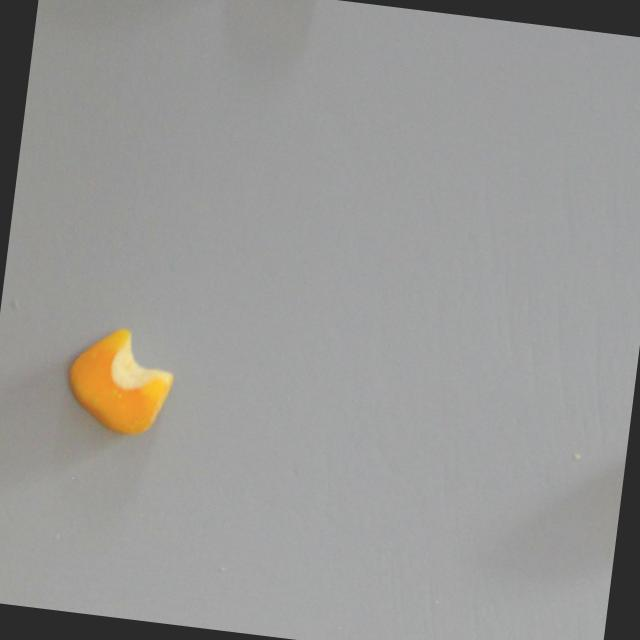no_canjicado: (59, 322, 179, 442)
